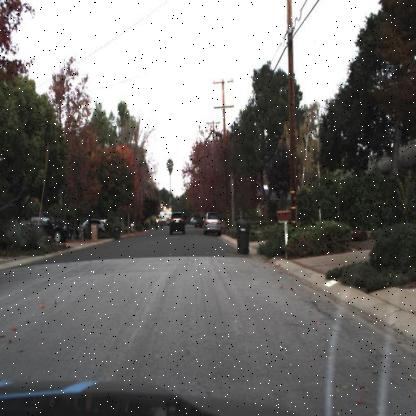car: (29, 212, 70, 248), (166, 208, 188, 240), (203, 210, 222, 234), (80, 219, 106, 235), (194, 219, 202, 228)
